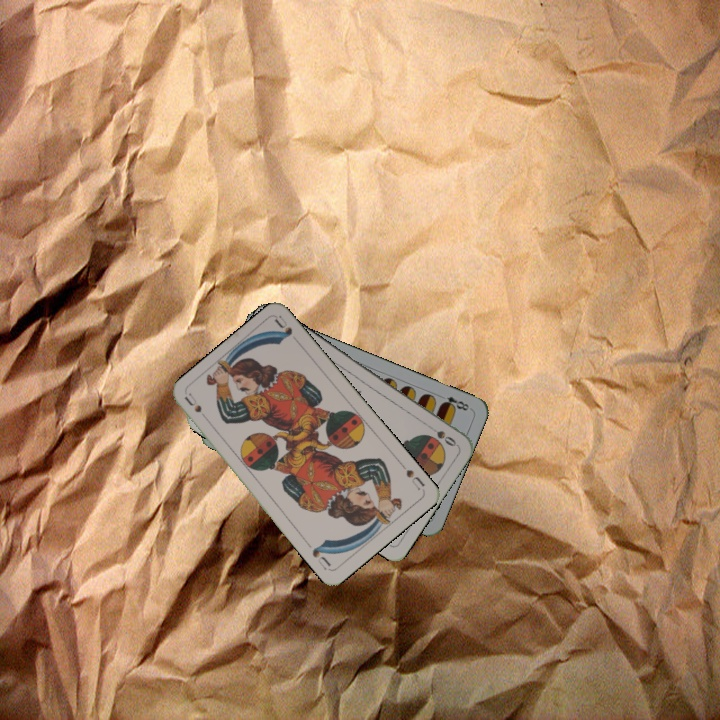E8: (437, 392, 473, 413)
SO: (424, 421, 460, 449)
SU: (181, 389, 213, 426), (396, 459, 427, 493)
